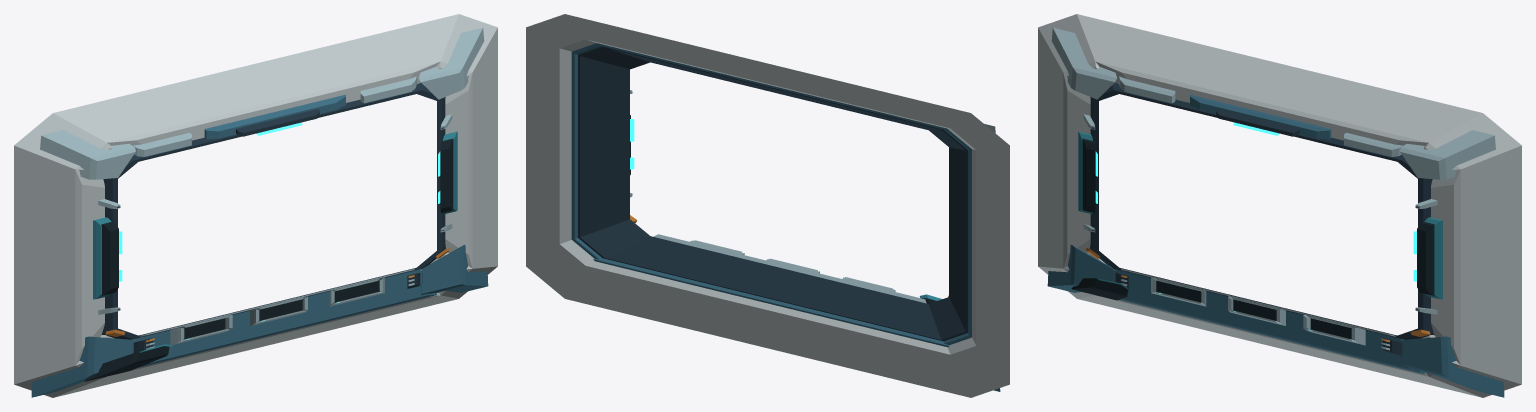
File: cockpit.glb
The picture shows the model from 3 angles, left to right: view 1: azimuth 30°, elevation 25°; view 2: azimuth 150°, elevation 25°; view 3: azimuth 330°, elevation 25°; orthographic projection.
Parts seen in each view (by area): view 1: cockpit_hull, cockpit_trim, cockpit_signals; view 2: cockpit_hull, cockpit_trim; view 3: cockpit_hull, cockpit_trim, cockpit_signals.
Part boxes in pixels (bbox=[...]): cockpit_hull: bbox=[14, 14, 497, 397]; cockpit_trim: bbox=[84, 83, 453, 381]; cockpit_signals: bbox=[119, 122, 440, 339]; cockpit_hull: bbox=[526, 14, 1009, 397]; cockpit_trim: bbox=[578, 46, 967, 341]; cockpit_hull: bbox=[1038, 14, 1521, 397]; cockpit_trim: bbox=[1071, 83, 1434, 355]; cockpit_signals: bbox=[1095, 122, 1416, 330].
Bounding box in the file's own units: 4.99 × 2.81 × 0.607.
